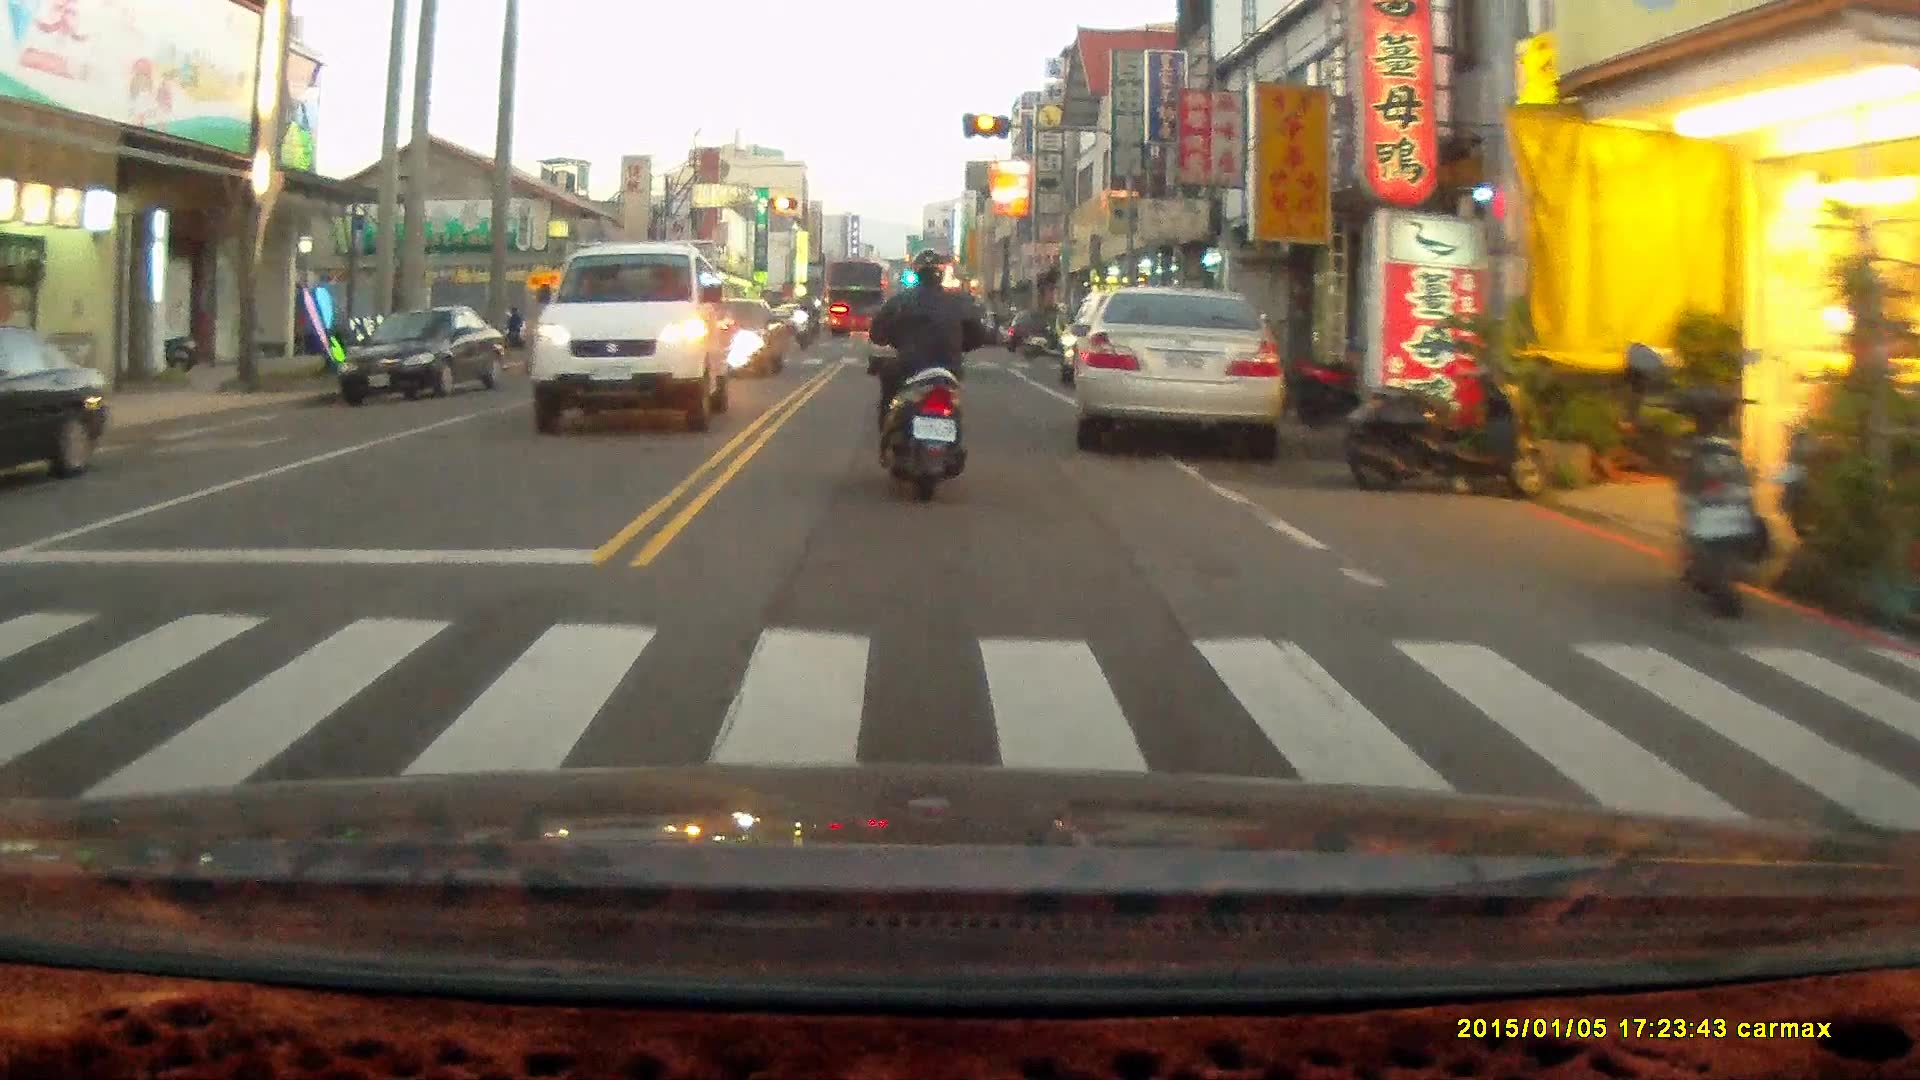rider: (864, 247, 984, 504)
vehicle: (1071, 282, 1289, 462), (531, 238, 729, 434), (1, 328, 114, 490), (339, 307, 506, 405)
